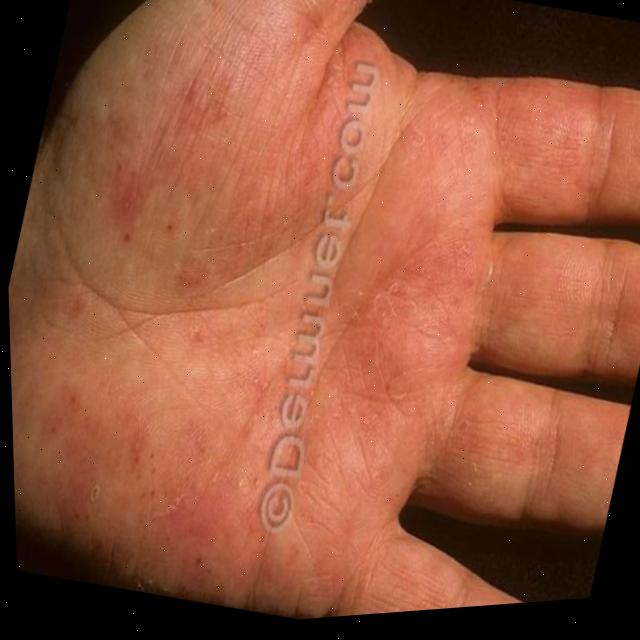Eczema: (4, 0, 527, 609)
